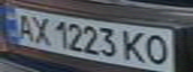1: (48, 18, 69, 50)
2: (63, 20, 84, 53), (81, 22, 100, 56)
3: (96, 25, 121, 60)
A: (9, 10, 39, 42)
K: (118, 28, 151, 64)
O: (142, 33, 175, 66)
X: (27, 13, 54, 46)
